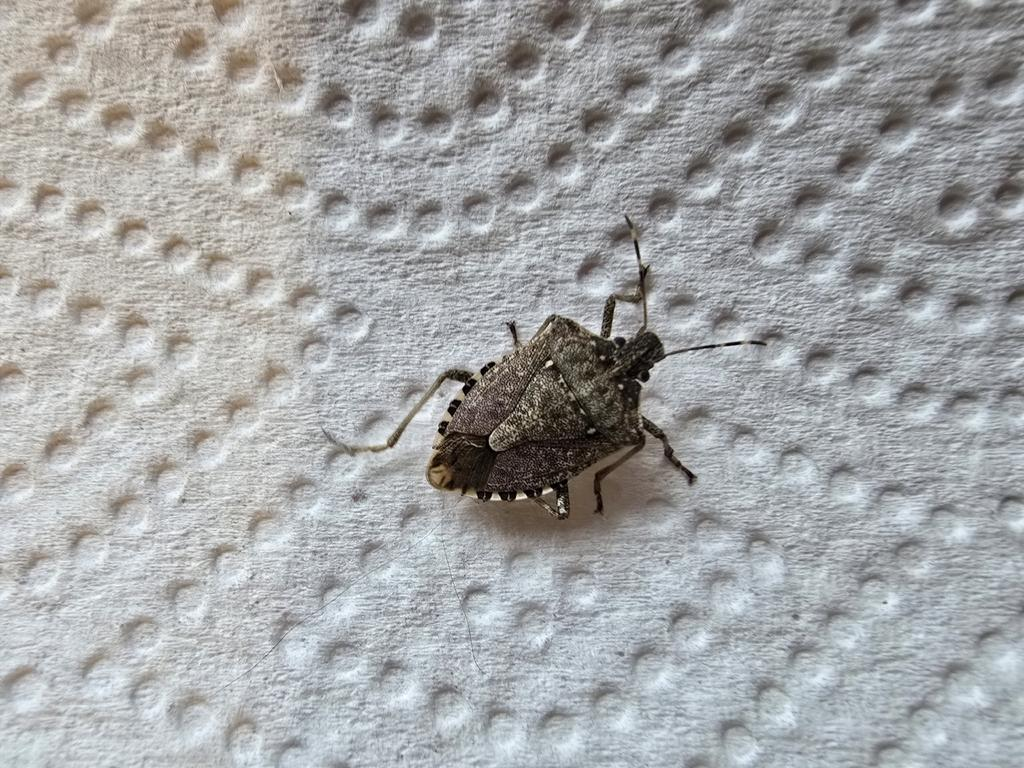stink_bugs: (284, 150, 821, 597)
